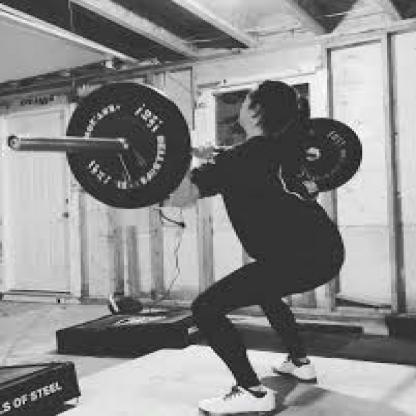barbell: (5, 79, 366, 211)
